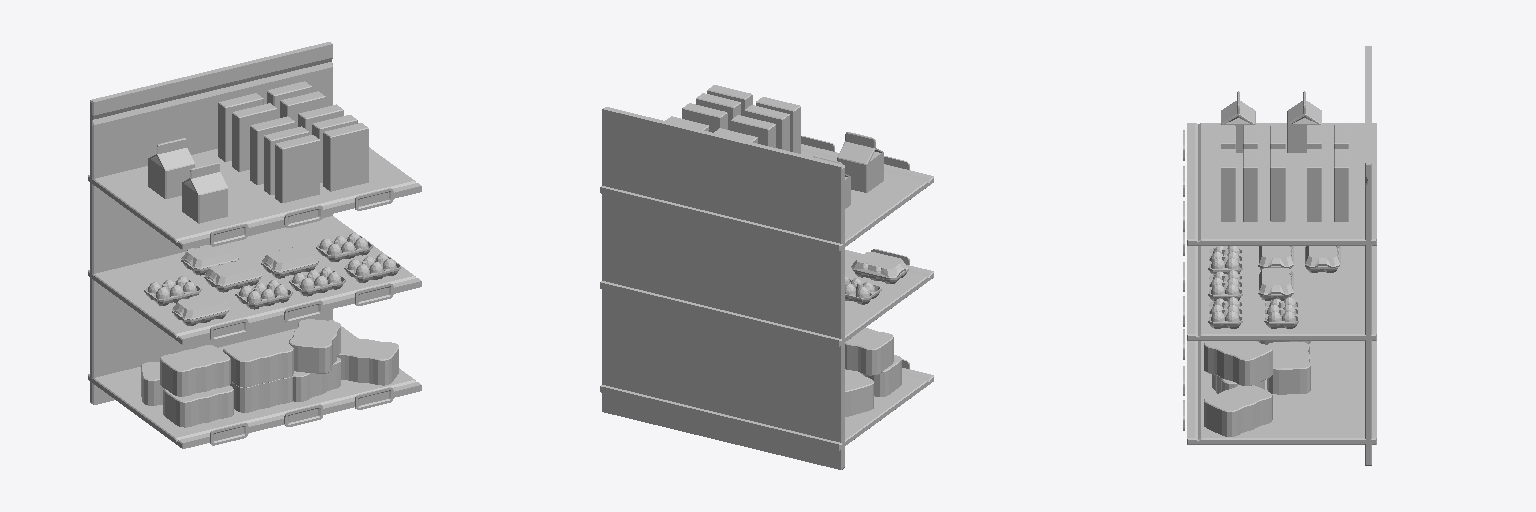
File: estante2.obj
3 views of the same model, side by side, from view 1: azimuth 30°, elevation 25°; view 2: azimuth 150°, elevation 25°; view 3: azimuth 270°, elevation 25° (orthographic).
Visible parts, largest first — view 1: Estante3:hypercasual_prop171; view 2: Estante3:hypercasual_prop171; view 3: Estante3:hypercasual_prop171.
Boxes of the visible parts, x1=… form: Estante3:hypercasual_prop171: x1=88, y1=42, x2=421, y2=448; Estante3:hypercasual_prop171: x1=600, y1=85, x2=933, y2=469; Estante3:hypercasual_prop171: x1=1183, y1=46, x2=1376, y2=465.
Bounding box in the file's own units: 5.79 × 6.96 × 4.02.